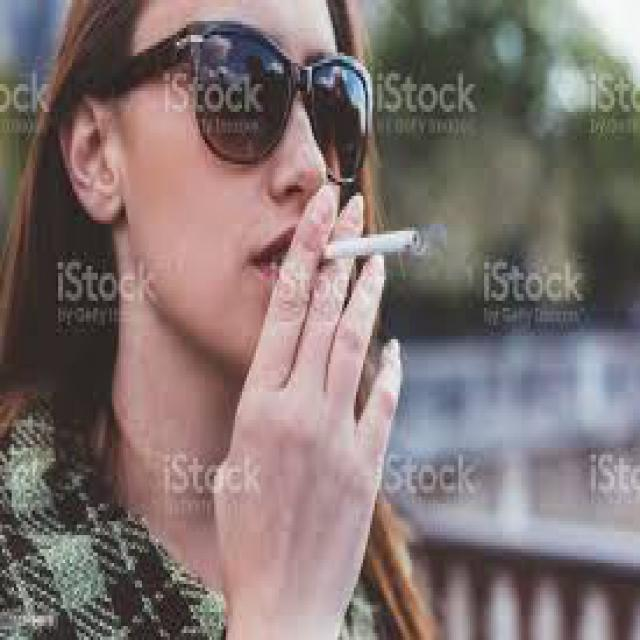smoking: (299, 226, 428, 259)
